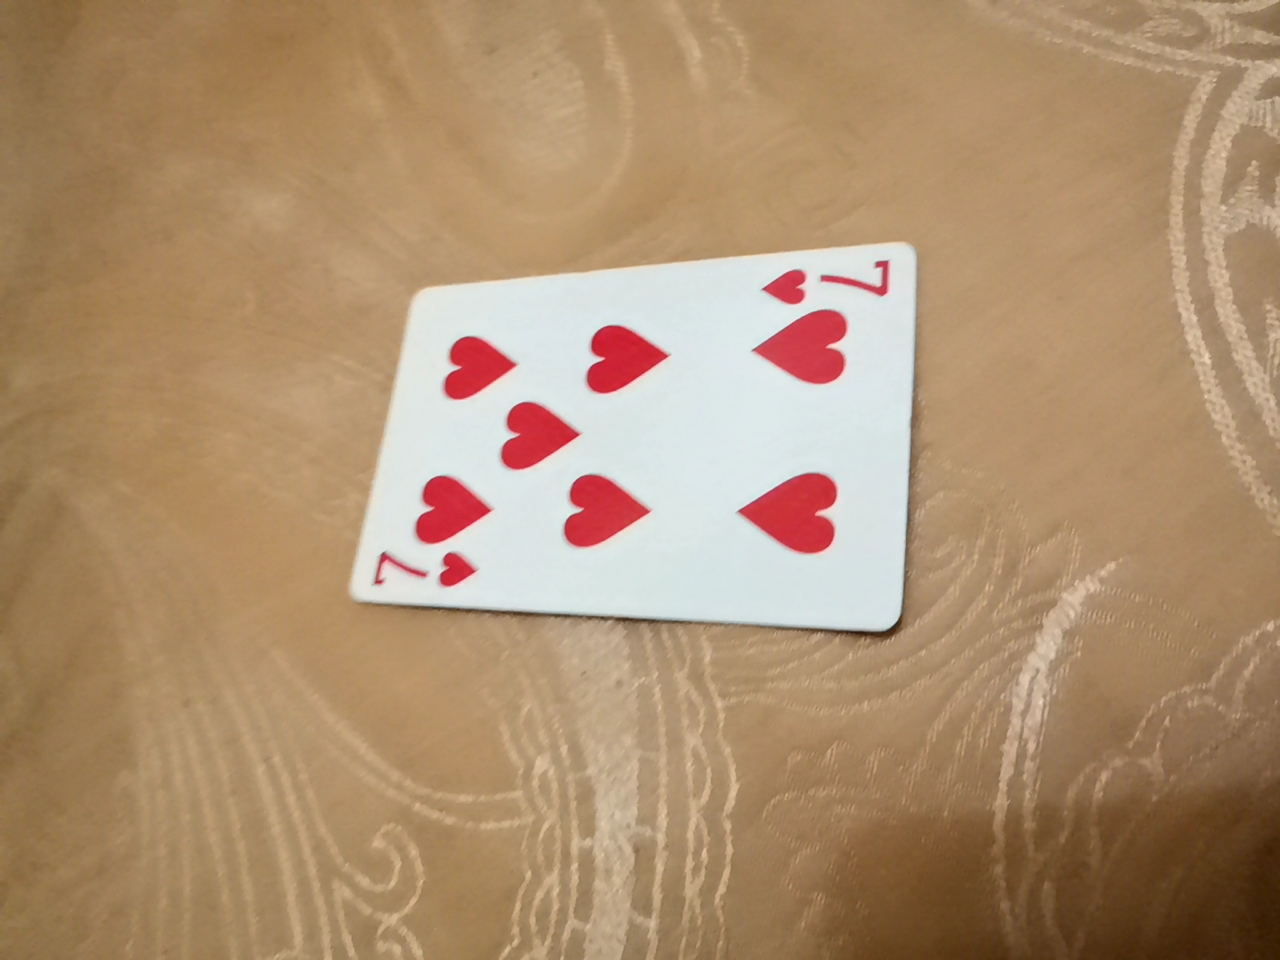hx 7: (318, 258, 926, 666)
